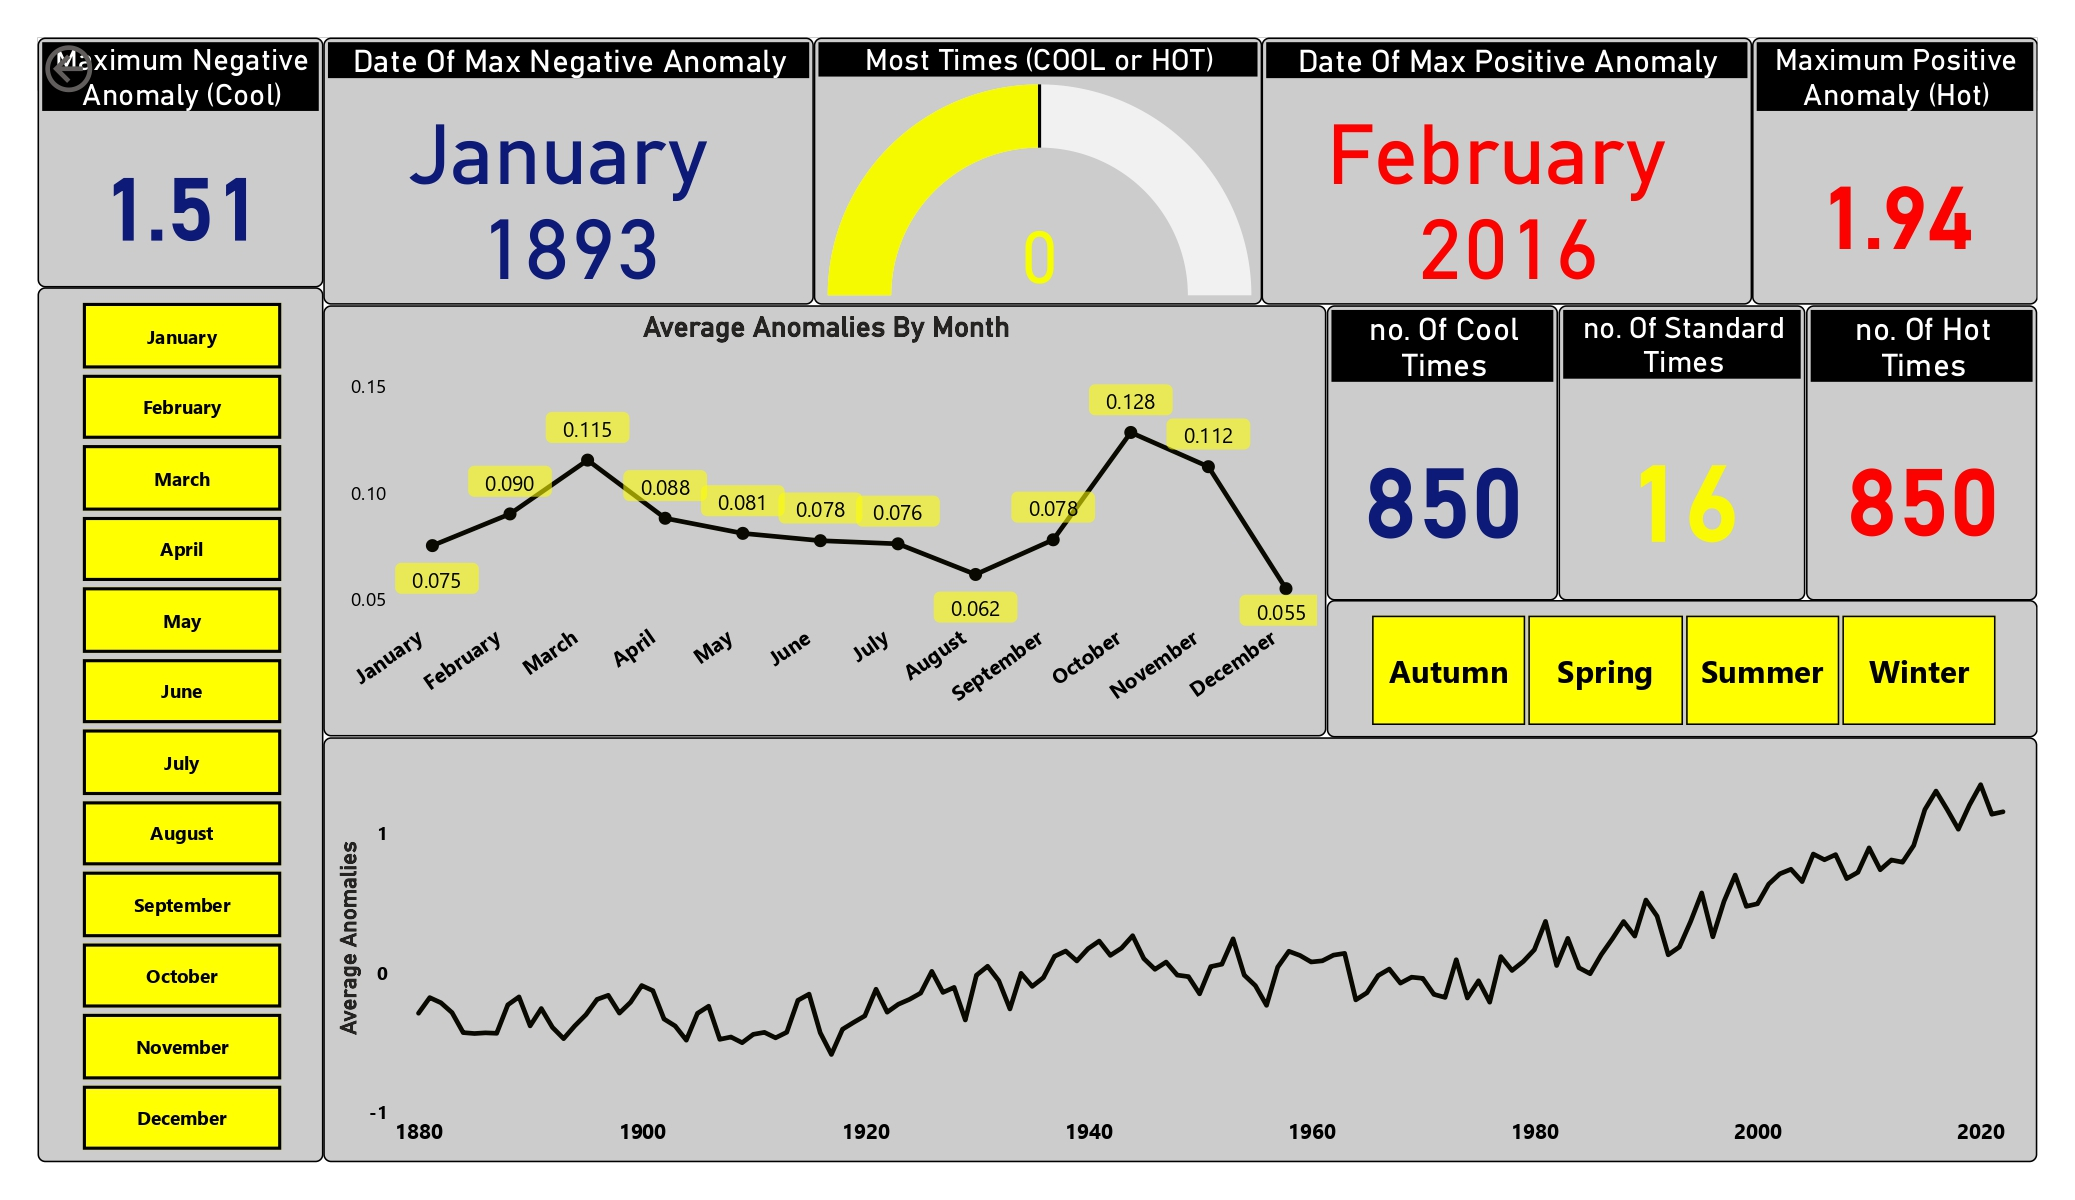

The page's visual inventory and layout, read from the dashboard file:
{"tool":"powerbi","page":{"name":"DashBoard","canvas":[1280,720],"ordinal":0},"visuals":[{"type":"card","title":"Maximum Positive Anomaly (Hot)","fields":{"Values":["fn relation.Maxhotdiff"]},"box":[1097.3,0,182.9,171.4],"z":0},{"type":"card","title":"Maximum Negative Anomaly (Cool)","fields":{"Values":["fn relation.Maxcooldif"]},"box":[0,0,182.9,159.8],"z":1000},{"type":"gauge","title":"Most Times (COOL or HOT)","fields":{"Y":["fn relation.winner"]},"box":[496.8,0,286.6,171.4],"z":2000},{"type":"lineChart","title":"Average Anomalies By Month","fields":{"Y":["fn relation.Avg_temp"],"Category":["Calmonth.Date.Variation.Date Hierarchy.Month"]},"box":[182.9,171.4,642.2,276.5],"z":3000},{"type":"slicer","fields":{"Values":["Month.Season"]},"box":[825.1,360,455,87.8],"z":4000},{"type":"lineChart","title":"Average Temperature By Year","fields":{"Y":["fn relation.Avg_temp"],"Category":["Calmonth.Date.Variation.Date Hierarchy.Year"]},"box":[182.9,447.8,1097.3,272.2],"z":5000},{"type":"card","title":"Date Of Max Positive Anomaly","fields":{"Values":["fn relation.Datemax"]},"box":[783.4,0,313.9,171.4],"z":6000},{"type":"card","title":"Date Of Max Negative Anomaly","fields":{"Values":["fn relation.Datemin"]},"box":[182.9,0,313.9,171.4],"z":7000},{"type":"actionButton","box":[0,0,100,40],"z":8000},{"type":"slicer","fields":{"Values":["Calmonth.Date.Variation.Date Hierarchy.Month"]},"box":[0,159.8,182.9,560.2],"z":9000},{"type":"card","title":"no. Of Cool Times","fields":{"Values":["fn relation.lesszero"]},"box":[825.1,171.4,148.3,188.6],"z":10000},{"type":"card","title":"no. Of Hot Times","fields":{"Values":["fn relation.morezero"]},"box":[1131.8,171.4,148.3,188.6],"z":11000},{"type":"card","title":"no. Of Standard Times","fields":{"Values":["fn relation.equality"]},"box":[973.4,171.4,158.4,188.6],"z":12000}]}

Visuals, with their boxes in screenshot pixels (x1, y1, x2, y2):
"Maximum Positive Anomaly (Hot)" card: <bbox>1730, 38, 2012, 302</bbox>
"Maximum Negative Anomaly (Cool)" card: <bbox>38, 38, 320, 284</bbox>
"Most Times (COOL or HOT)" gauge: <bbox>804, 38, 1246, 302</bbox>
"Average Anomalies By Month" lineChart: <bbox>320, 302, 1310, 728</bbox>
slicer - Month.Season: <bbox>1310, 593, 2012, 728</bbox>
"Average Temperature By Year" lineChart: <bbox>320, 728, 2012, 1148</bbox>
"Date Of Max Positive Anomaly" card: <bbox>1246, 38, 1730, 302</bbox>
"Date Of Max Negative Anomaly" card: <bbox>320, 38, 804, 302</bbox>
actionButton: <bbox>38, 38, 192, 100</bbox>
slicer - Calmonth.Date.Variation.Date Hierarchy.Month: <bbox>38, 284, 320, 1148</bbox>
"no. Of Cool Times" card: <bbox>1310, 302, 1539, 593</bbox>
"no. Of Hot Times" card: <bbox>1783, 302, 2012, 593</bbox>
"no. Of Standard Times" card: <bbox>1539, 302, 1783, 593</bbox>
